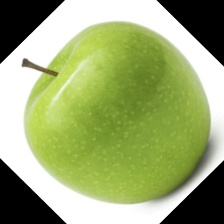apple: (33, 9, 200, 210)
